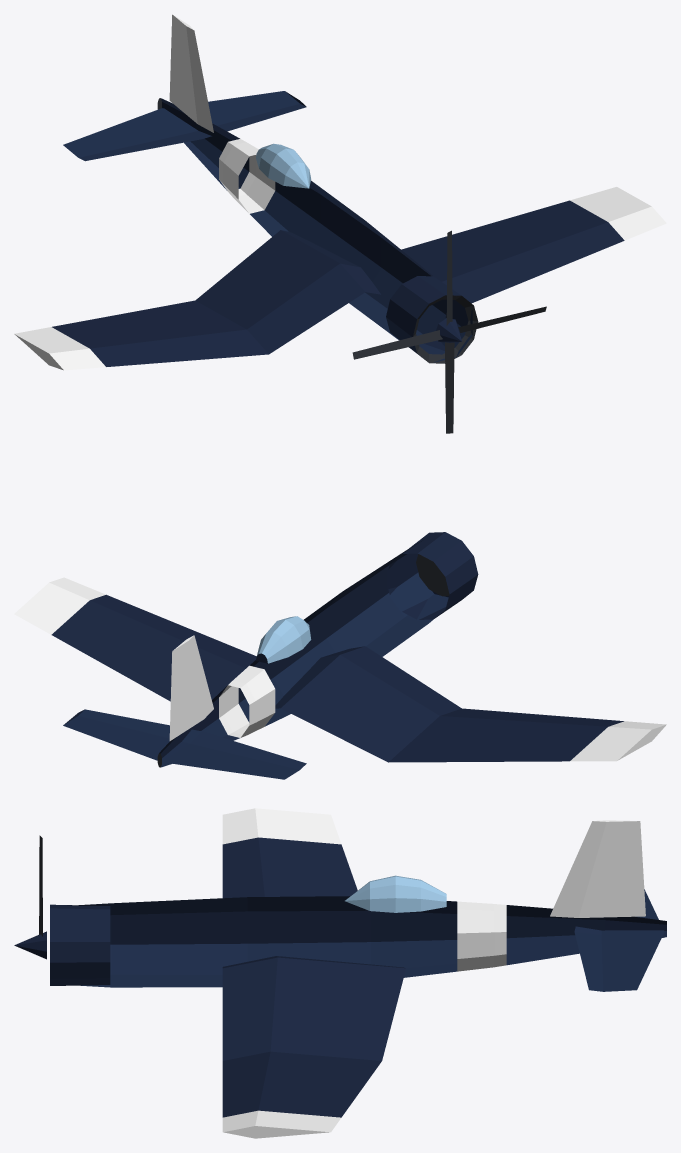
3 renders of one model, top to bottom at view 1: azimuth 30°, elevation 25°; view 2: azimuth 150°, elevation 25°; view 3: azimuth 270°, elevation 25°, orthographic. The views are drawn at different scales.
Parts seen in each view (by area): view 1: body, prop; view 2: body; view 3: body, prop.
Boxes of the visible parts, x1=… form: body: x1=14, y1=14, x2=666, y2=370; prop: x1=352, y1=230, x2=546, y2=433; body: x1=14, y1=532, x2=666, y2=779; body: x1=50, y1=808, x2=666, y2=1138; prop: x1=14, y1=835, x2=46, y2=959.
Size of the model in its own units: 12.5 by 4.28 by 10.86.
